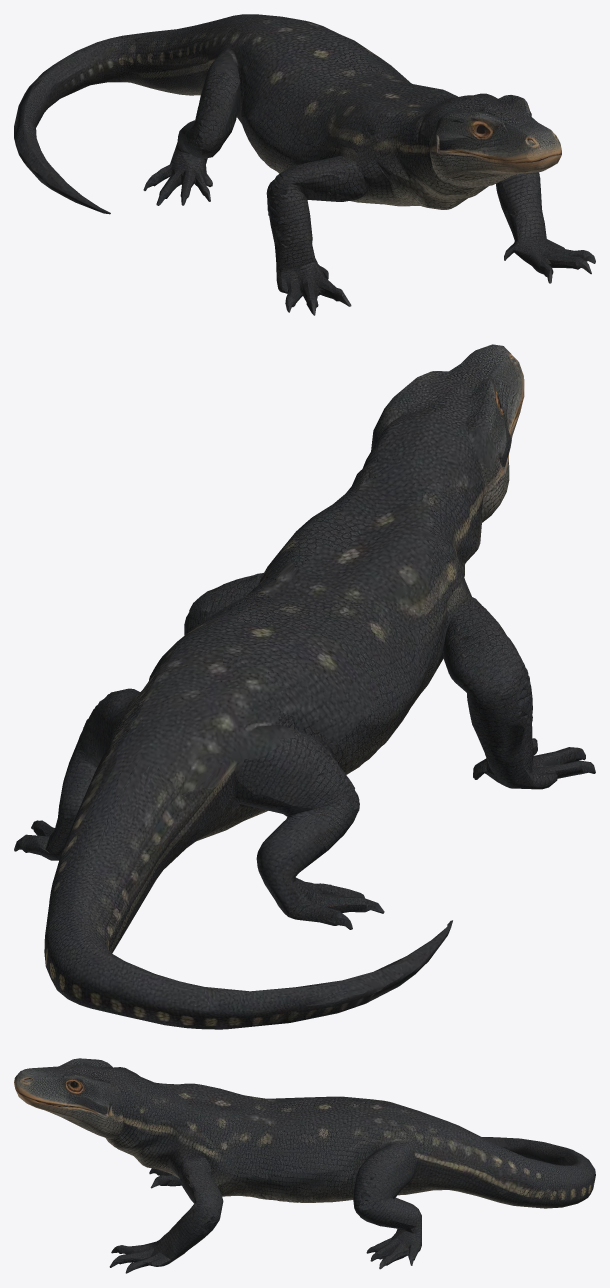
Rendered from fauna_monitor.glb.
The picture shows the model from 3 angles, top to bottom: view 1: azimuth 30°, elevation 25°; view 2: azimuth 150°, elevation 25°; view 3: azimuth 270°, elevation 25°; orthographic projection. The views are drawn at different scales.
Size of the model in its own units: 0.9731 by 0.5805 by 1.9.
Materials: 1 (1 with a texture image).
